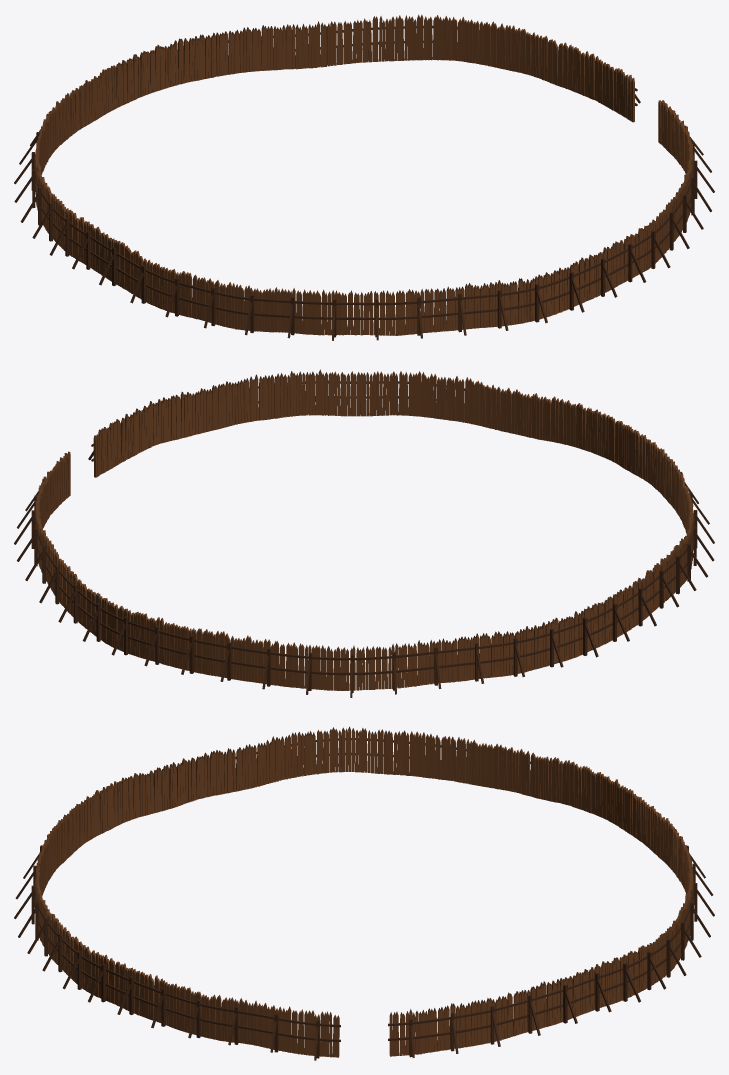
Rendered from Empalizada.glb.
3 views of the same model, one above another, from view 1: azimuth 30°, elevation 25°; view 2: azimuth 150°, elevation 25°; view 3: azimuth 270°, elevation 25° (orthographic).
Parts seen in each view (by area): view 1: Empalizada; view 2: Empalizada; view 3: Empalizada.
Boxes of the visible parts, x1,y1,x2,y2 form: Empalizada: [14, 14, 714, 340]; Empalizada: [14, 369, 714, 697]; Empalizada: [14, 726, 714, 1060].
Bounding box in the file's own units: 70.37 × 6.38 × 70.75.
